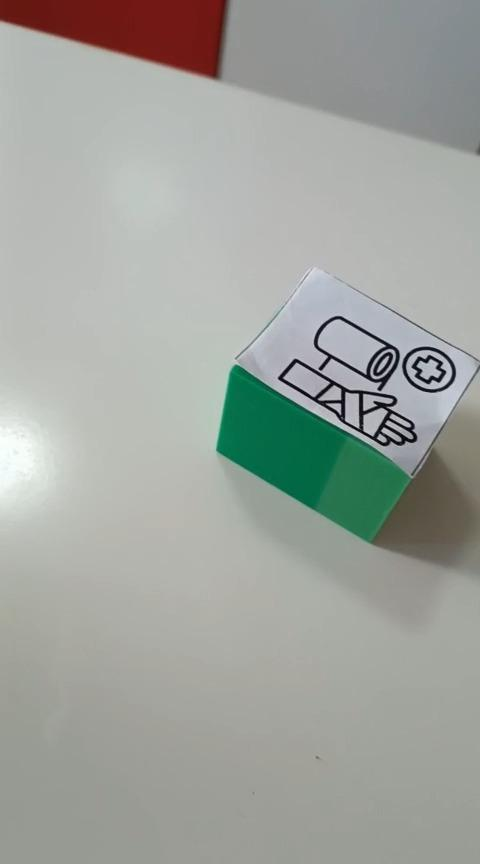Bandages: (214, 265, 478, 543)
